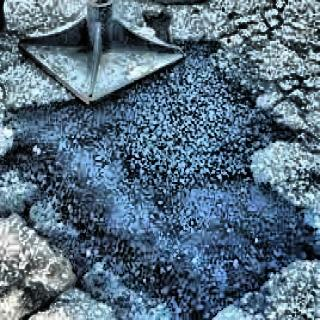alligator-crack: (132, 0, 320, 180)
